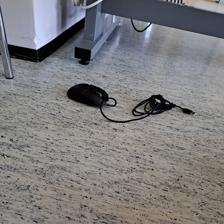mouse: (65, 83, 109, 108)
